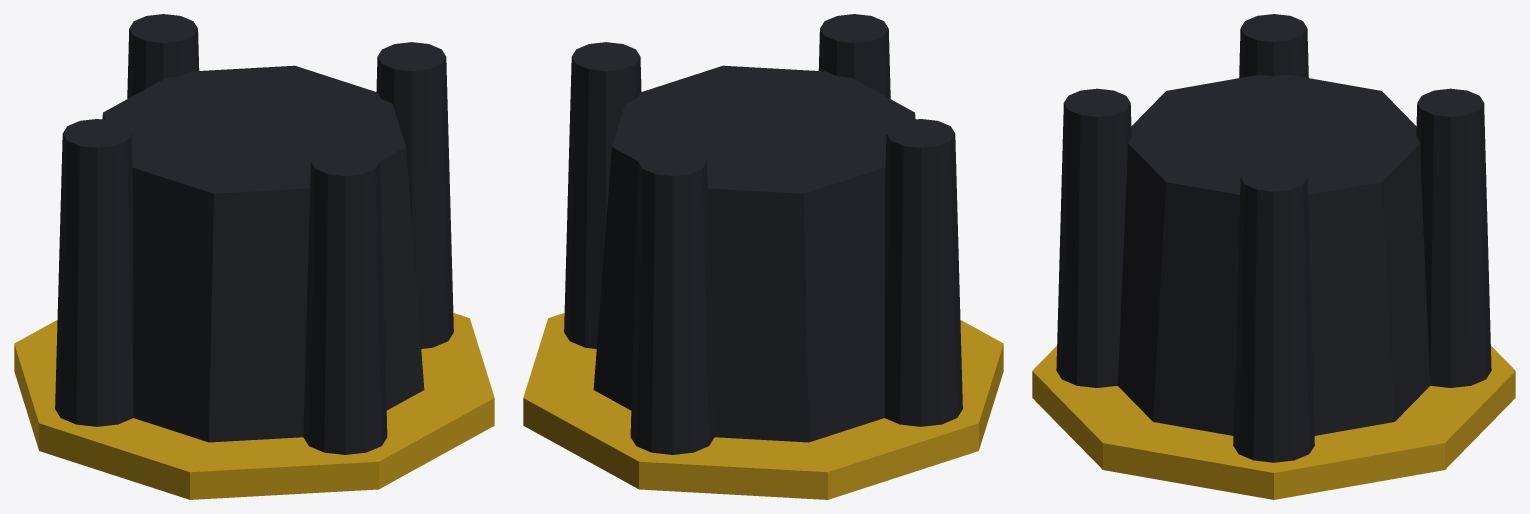
Rendered from nuclear-furnace.glb.
3 views of the same model, side by side, from view 1: azimuth 30°, elevation 25°; view 2: azimuth 150°, elevation 25°; view 3: azimuth 270°, elevation 25° (orthographic). The views are drawn at different scales.
Parts seen in each view (by area): view 1: nuclear-furnace_Opaque; view 2: nuclear-furnace_Opaque; view 3: nuclear-furnace_Opaque.
Part boxes in pixels (bbox=[...]): nuclear-furnace_Opaque: bbox=[14, 14, 494, 499]; nuclear-furnace_Opaque: bbox=[523, 14, 1003, 499]; nuclear-furnace_Opaque: bbox=[1032, 14, 1515, 499].
Bounding box in the file's own units: 26 × 17.5 × 26.
